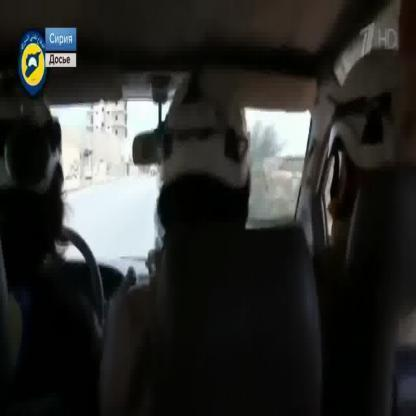helmet: (326, 44, 414, 172), (156, 68, 250, 187), (0, 89, 67, 206)
